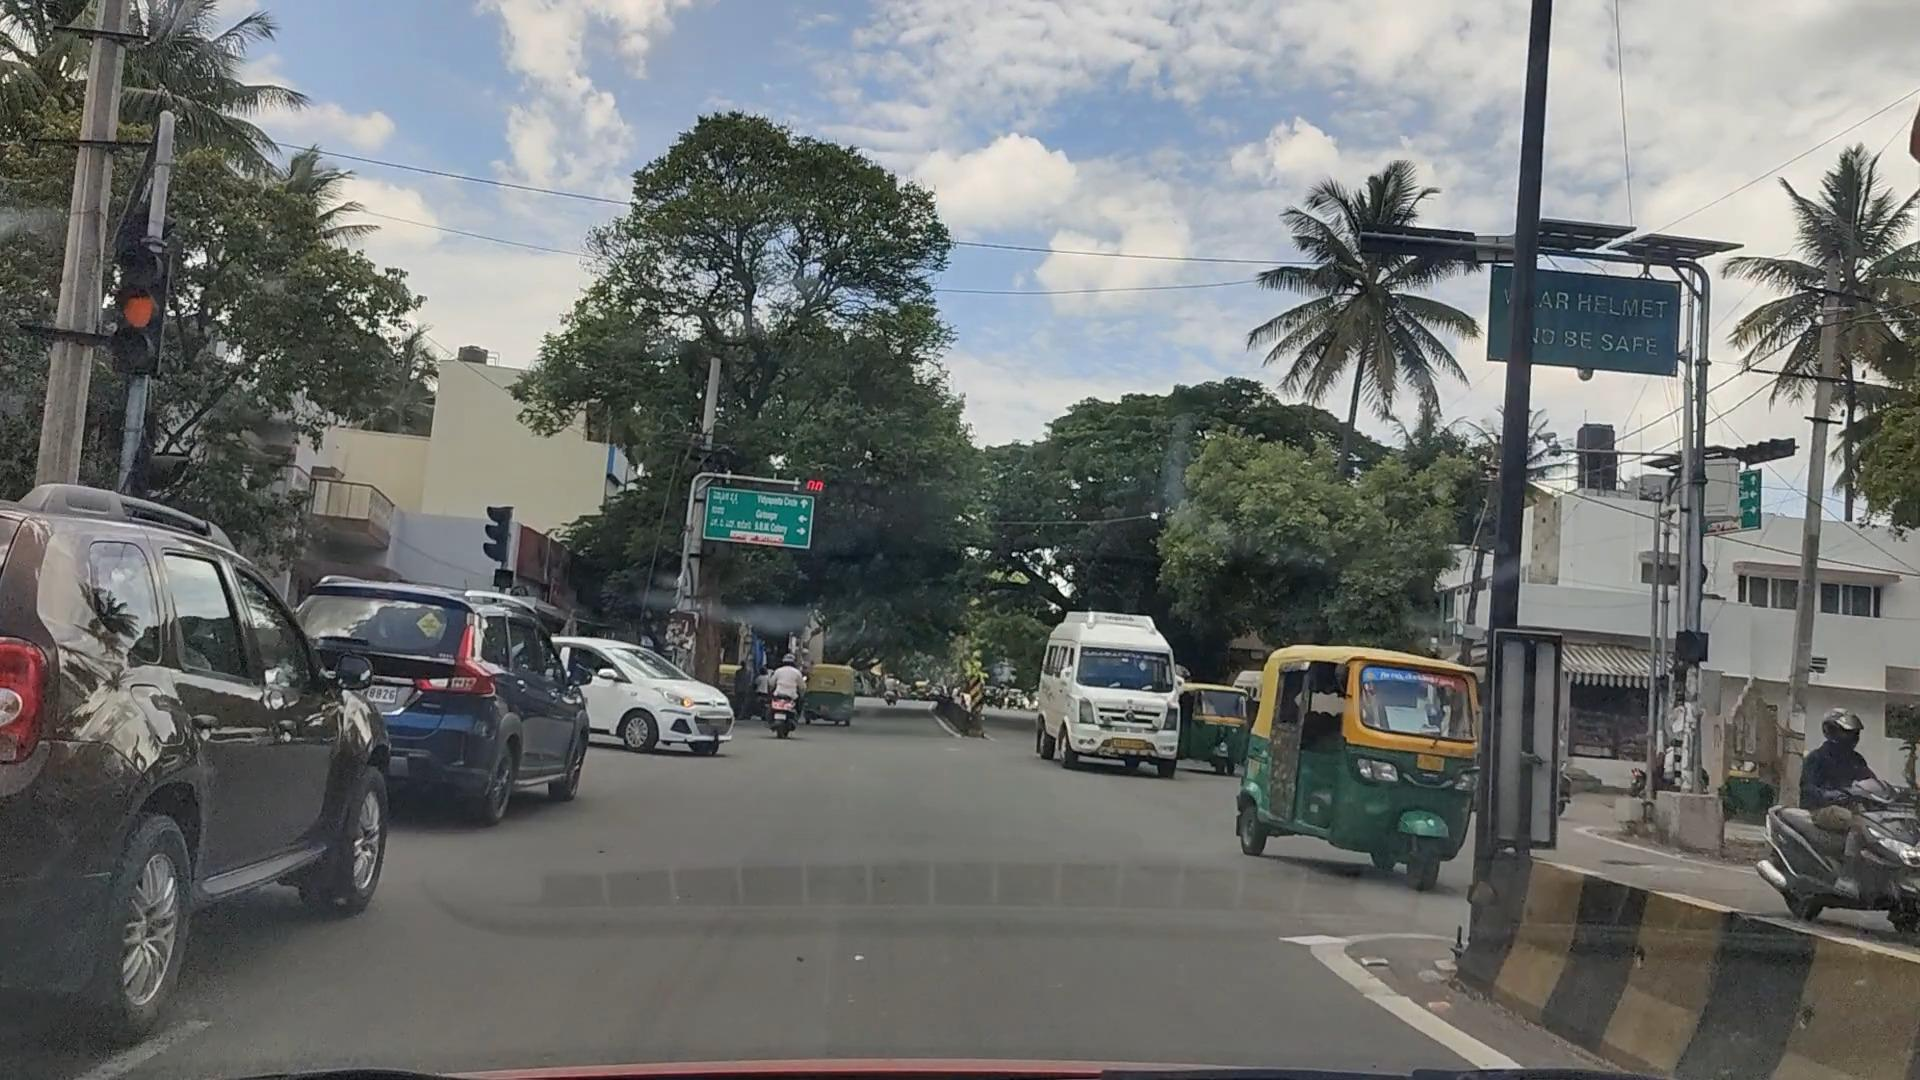LMV: (18, 501, 384, 1044), (306, 553, 595, 824)
